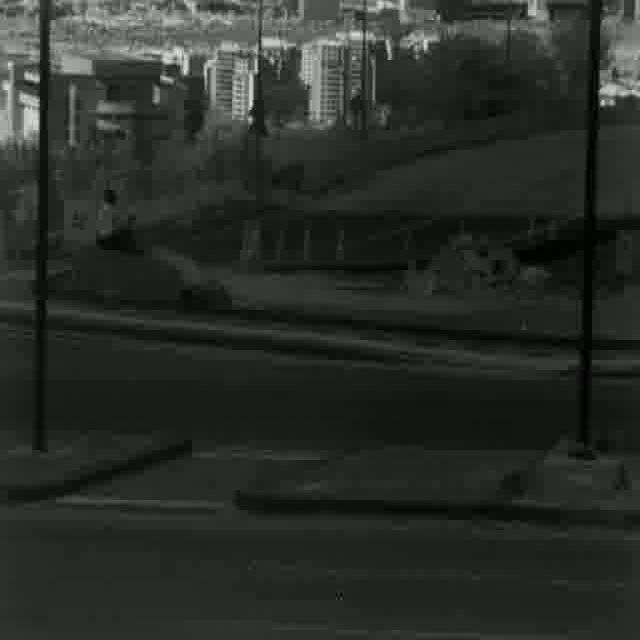Motorcycle: (94, 187, 142, 254)
